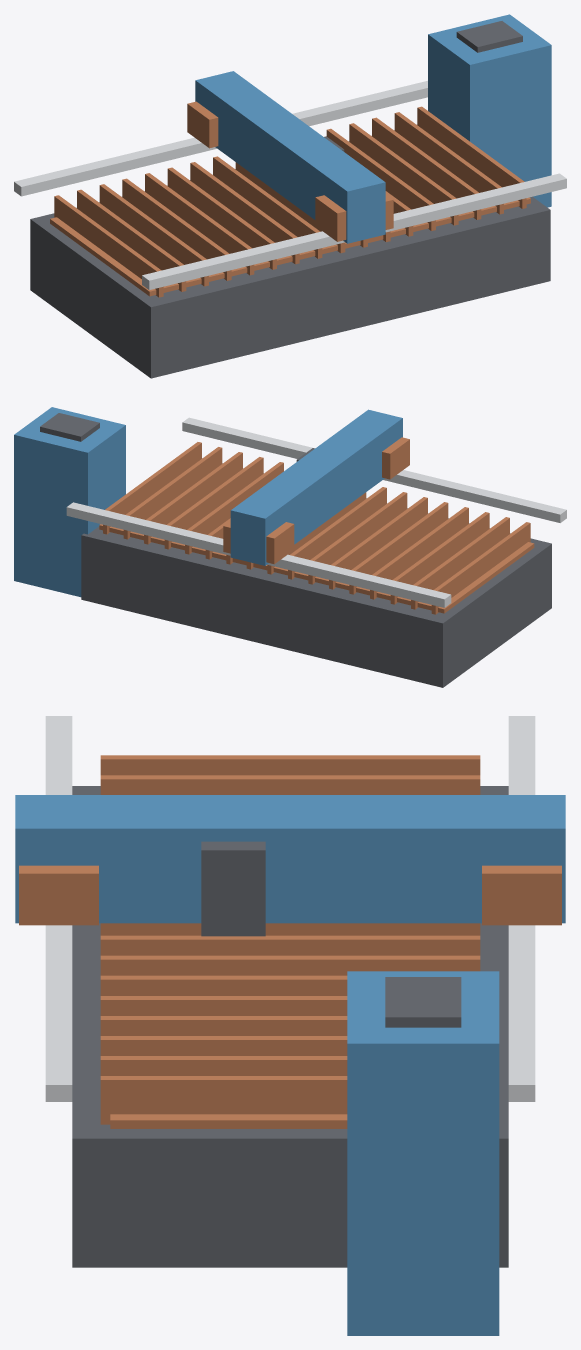
The model's file is shipyard-and-dry-dock-shipyard-and-dry-dock-profile-cu-733237ad__37945.glb.
The picture shows the model from 3 angles, top to bottom: view 1: azimuth 30°, elevation 25°; view 2: azimuth 150°, elevation 25°; view 3: azimuth 270°, elevation 25°; orthographic projection. The views are drawn at different scales.
Visible parts, largest first — view 1: shipyard-and-dry-dock-profile-cutting-table, cutting-gantry/blue, cutting-gantry/primer (×2); view 2: shipyard-and-dry-dock-profile-cutting-table, cutting-gantry/blue, cutting-gantry/primer (×2); view 3: shipyard-and-dry-dock-profile-cutting-table, cutting-gantry/blue, cutting-gantry/primer (×2), cutting-gantry/charcoal.
Part boxes in pixels (box(x1,y1,x2,y2)): shipyard-and-dry-dock-profile-cutting-table: box(14, 14, 566, 378); cutting-gantry/blue: box(195, 71, 385, 243); cutting-gantry/primer (×2): box(187, 101, 393, 241); shipyard-and-dry-dock-profile-cutting-table: box(14, 407, 566, 687); cutting-gantry/blue: box(230, 409, 402, 565); cutting-gantry/primer (×2): box(223, 437, 409, 564); shipyard-and-dry-dock-profile-cutting-table: box(45, 716, 535, 1335); cutting-gantry/blue: box(15, 795, 565, 923); cutting-gantry/primer (×2): box(19, 865, 561, 925); cutting-gantry/charcoal: box(201, 841, 265, 936).
Size of the model in its own units: 5.35 by 1.76 by 2.9.
